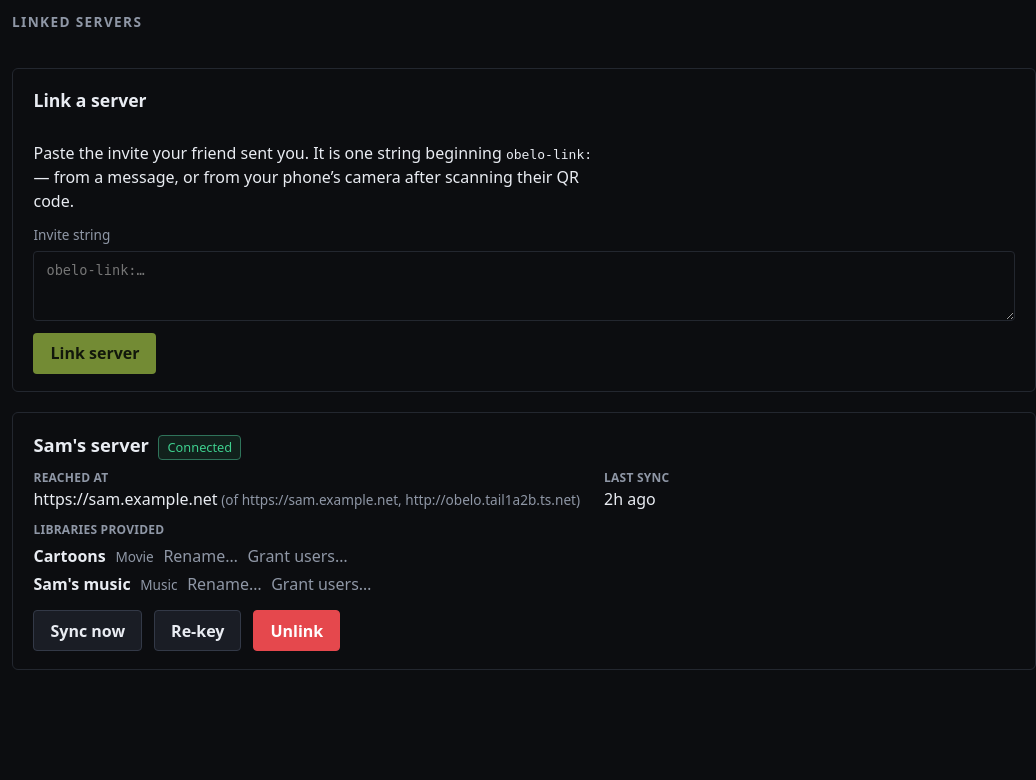
it: AdminLinkedServersScreen — renaming a linked library › renames in place, sending only the name, and refetches the list
The width and height of the screenshot is (1036, 780).
Click the button with test id "link-library-rename-toggle" in the row of "Cartoons": (201, 556) [163,544,238,568]
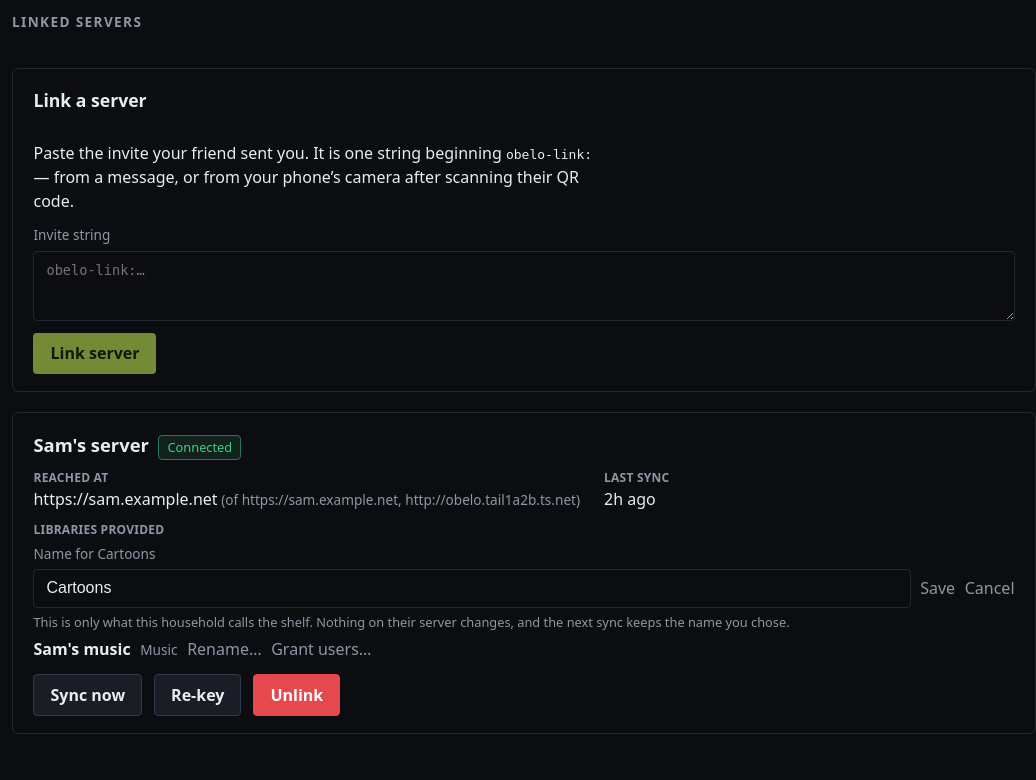
Expected: the field with test id "link-library-rename-input" holds "Cartoons"
Replace the text in the field with test id "link-library-rename-input" with "Saturday morning": (472, 588) [34,569,911,608]
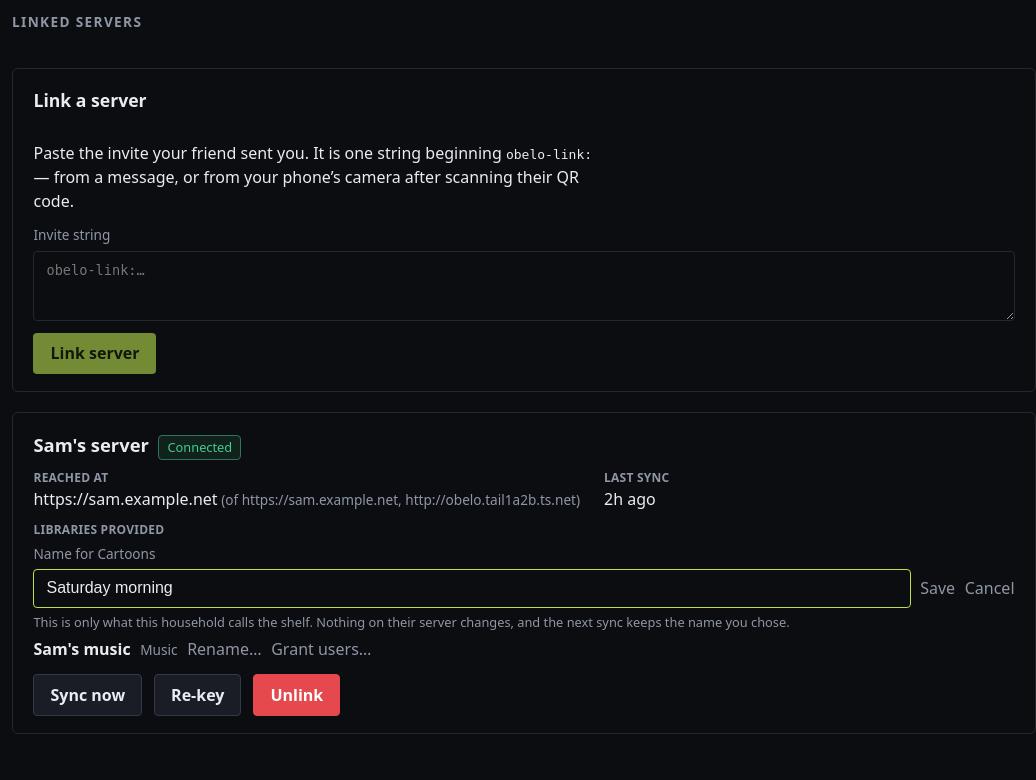
Click the button with test id "link-library-rename-save": (938, 588) [920,576,955,600]
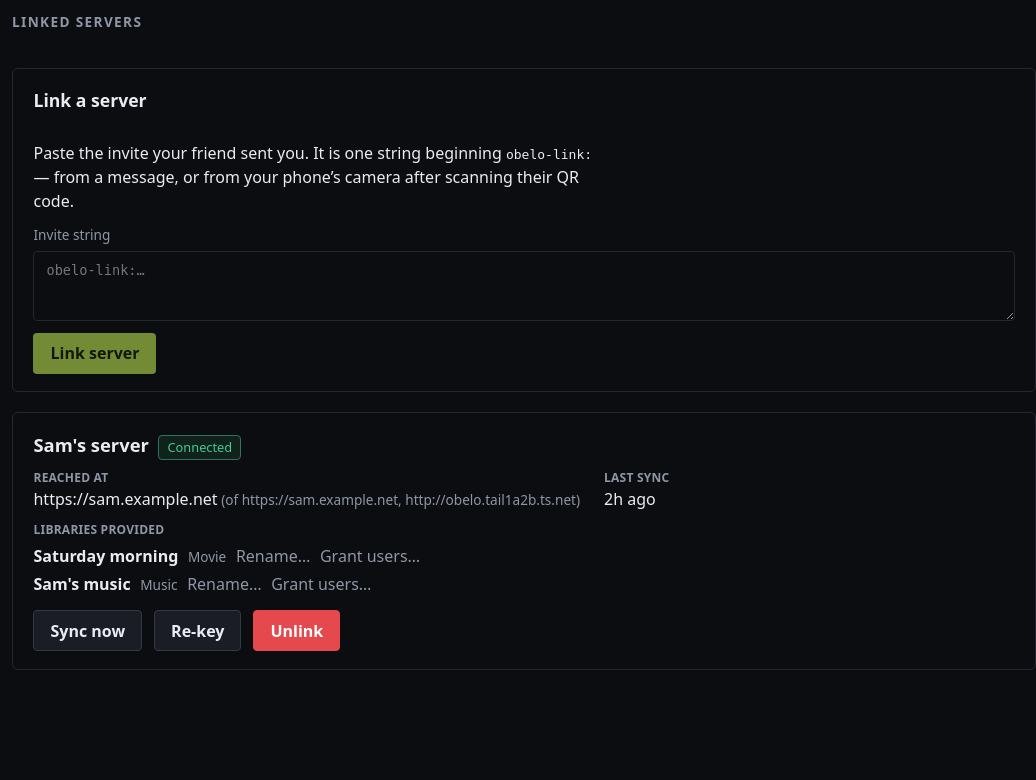
Expected: the list with test id "link-libraries" shows "Sam's music", [34,574,131,596]
Expected: the list with test id "link-libraries" shows "Saturday morning", [34,545,178,567]
Expected: the field with test id "link-library-rename-input" is gone
